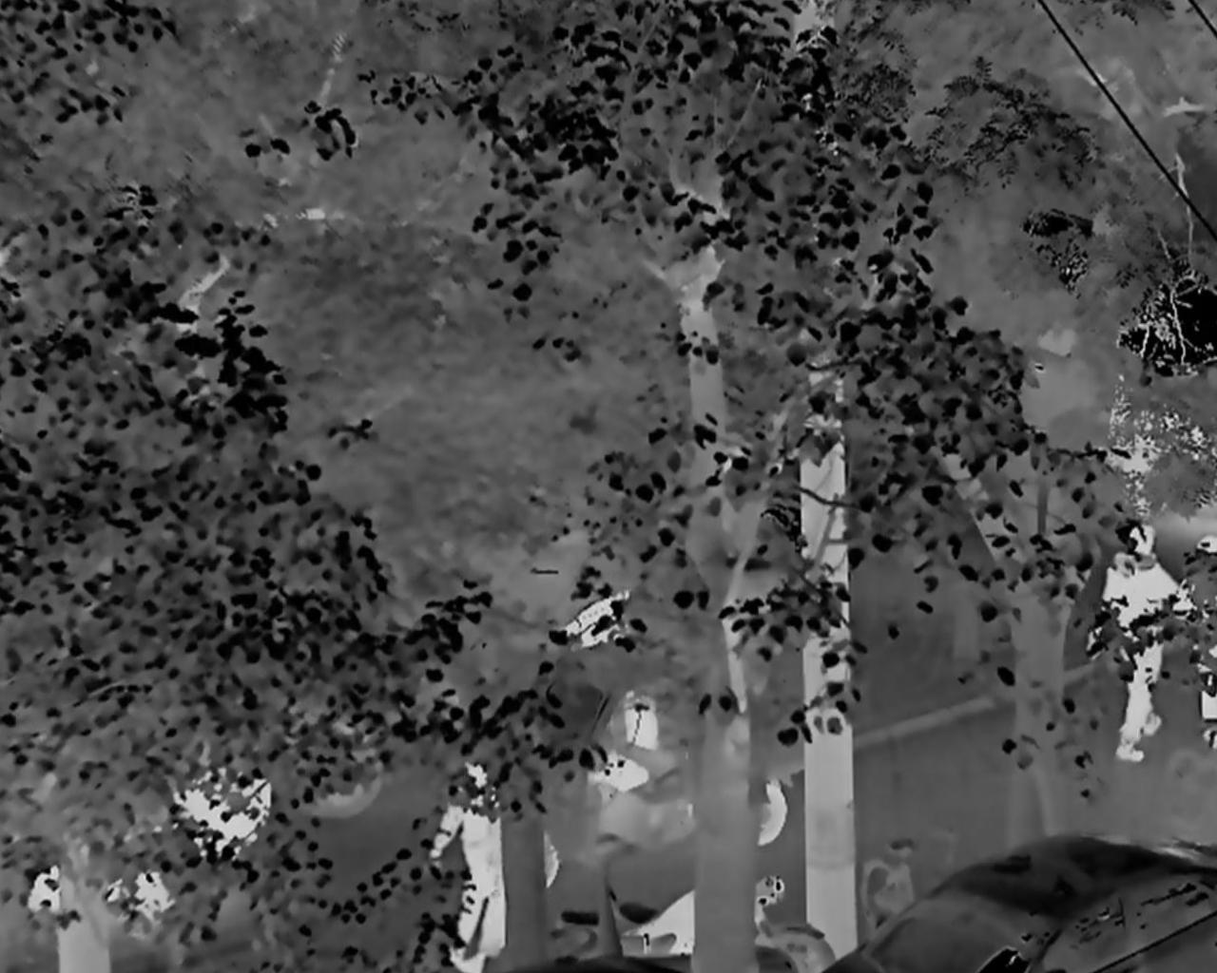person: (1086, 523, 1178, 761), (458, 792, 560, 973), (432, 753, 508, 973), (1180, 529, 1217, 753), (561, 587, 634, 645)
